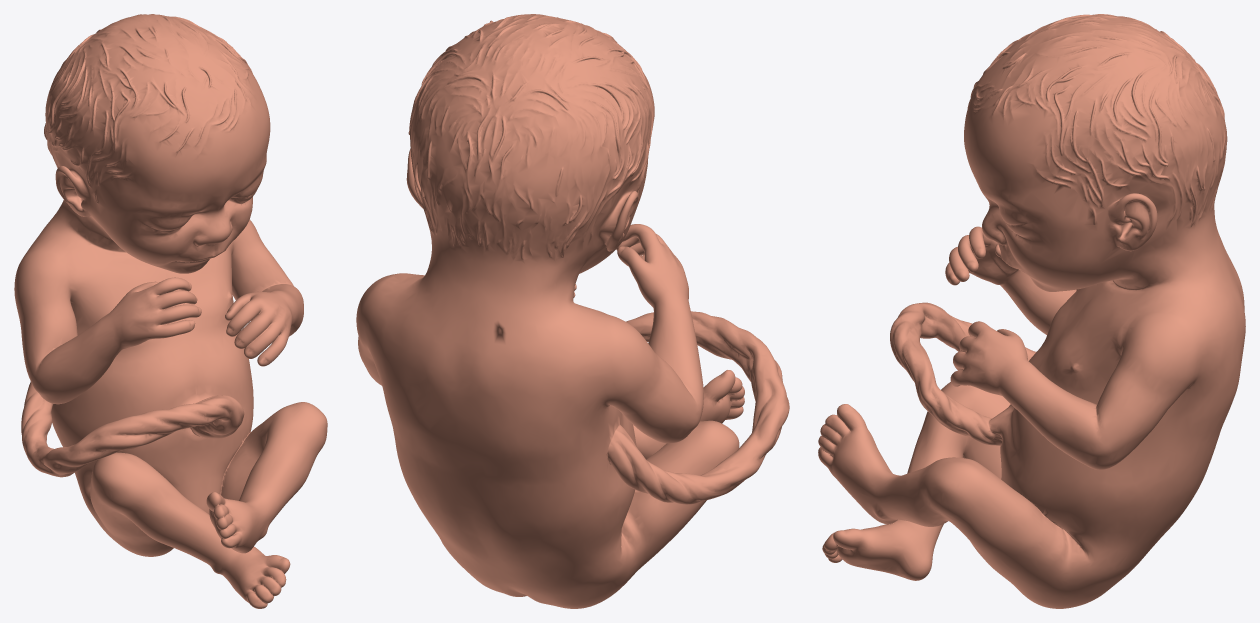
The model's file is semaine-23.glb.
The picture shows the model from 3 angles, left to right: view 1: azimuth 30°, elevation 25°; view 2: azimuth 150°, elevation 25°; view 3: azimuth 270°, elevation 25°; orthographic projection. The views are drawn at different scales.
Bounding box in the file's own units: 1.18 × 1.9 × 1.31.
